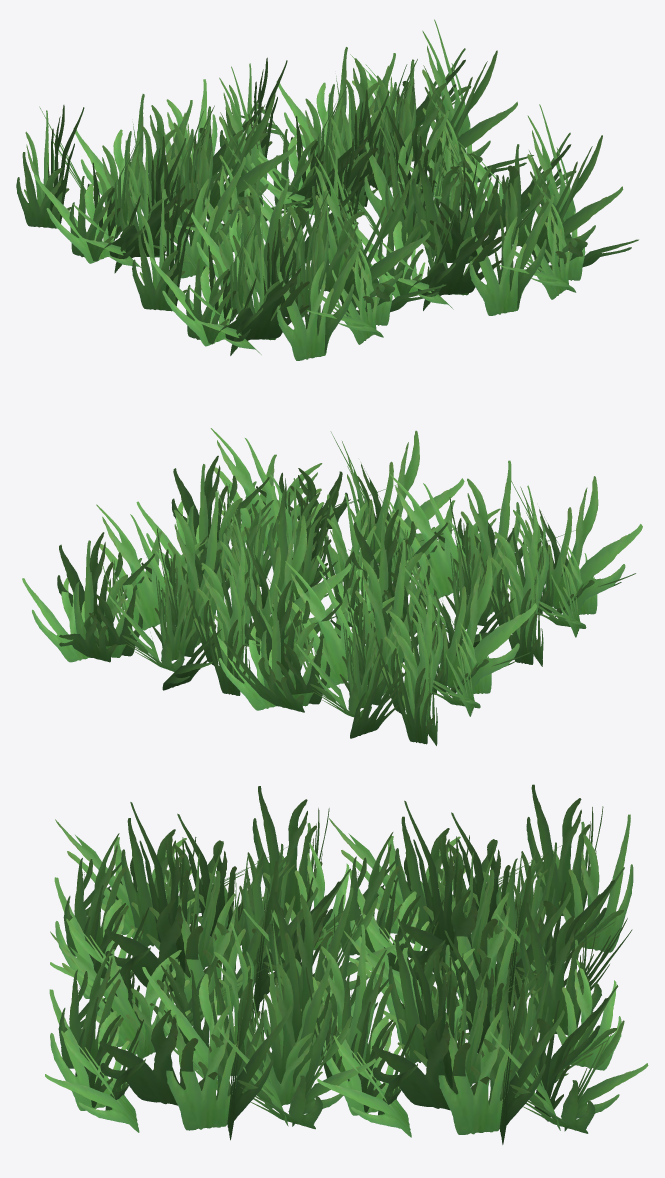
File: P_plant_1399.fbx
3 views of the same model, one above another, from view 1: azimuth 30°, elevation 25°; view 2: azimuth 150°, elevation 25°; view 3: azimuth 270°, elevation 25° (orthographic). The views are drawn at different scales.
Visible parts, largest first — view 1: P_plant_1399; view 2: P_plant_1399; view 3: P_plant_1399.
Boxes of the visible parts, x1=… form: P_plant_1399: x1=16, y1=19, x2=638, y2=360; P_plant_1399: x1=22, y1=428, x2=642, y2=745; P_plant_1399: x1=45, y1=784, x2=648, y2=1144.
Size of the model in its own units: 2.23 by 0.6637 by 2.19.
